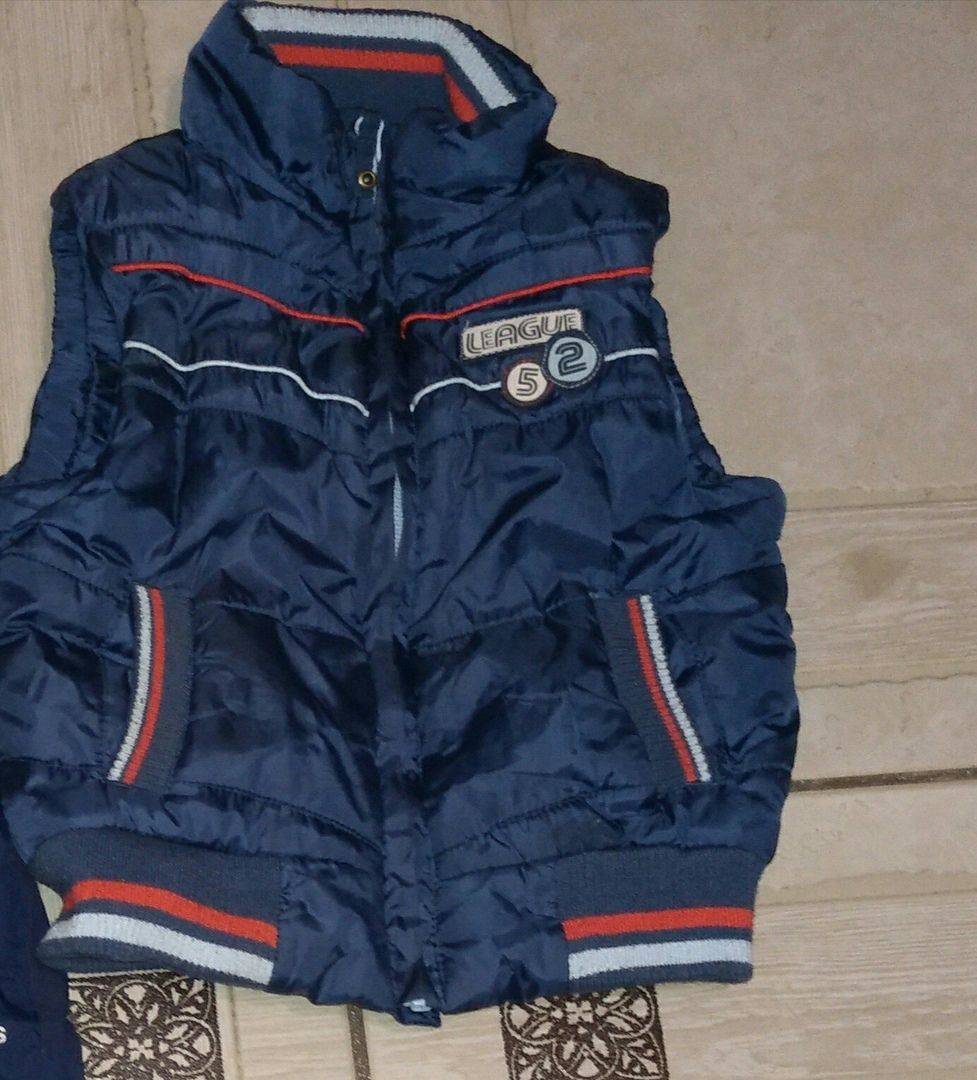clothes: (9, 1, 808, 1002)
